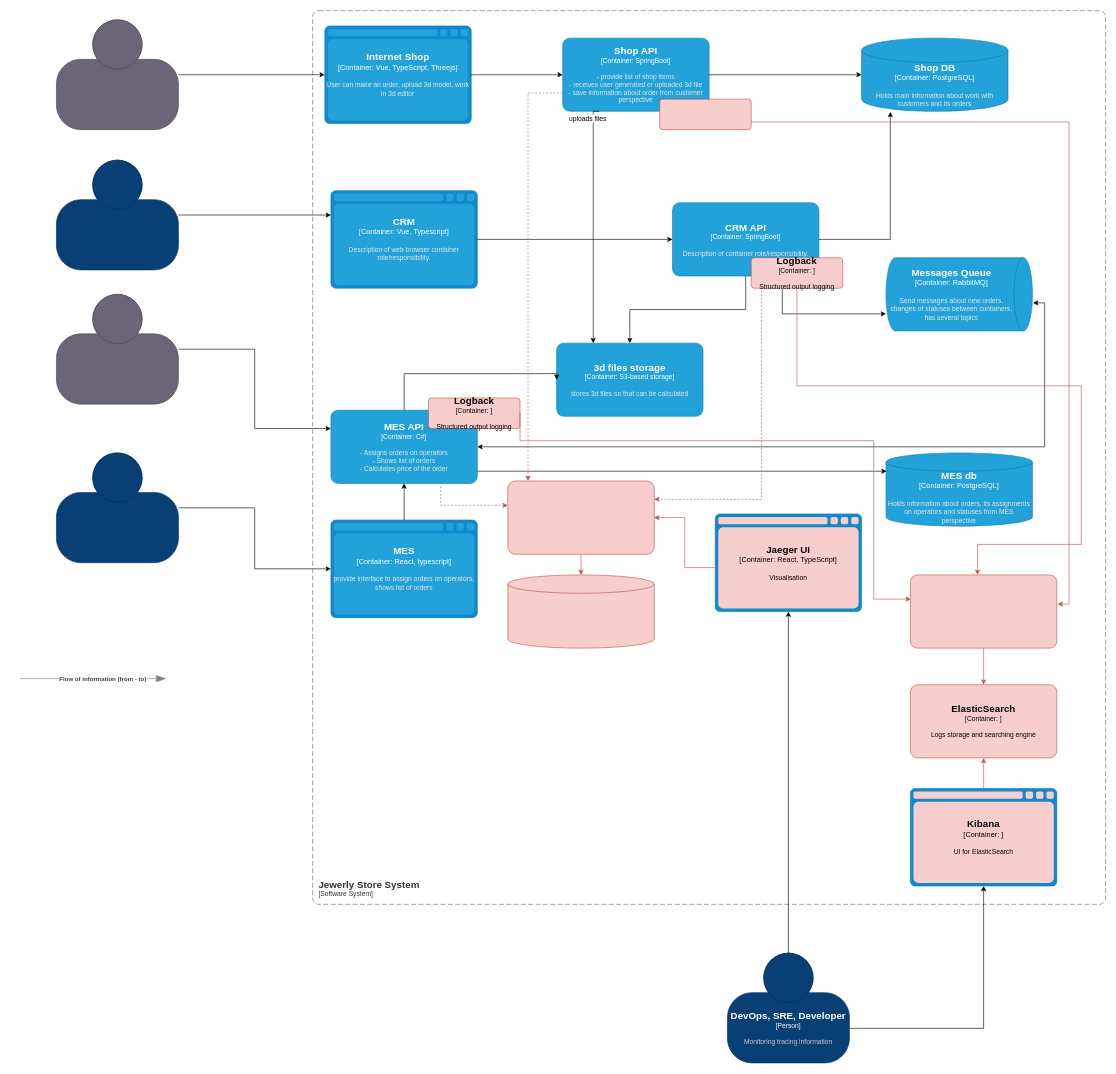
Some shapes in this 1116 by 1074 pixel diagram are drawn without their labels. The centre of each missing label's shape, as x and y in pixels:
"API user [Person] Description of external person." belongs at (x=117, y=349).
"Customer [Person] Description of external person." belongs at (x=117, y=74).
"Jaeger [Container: GoLang] Traces" belongs at (x=580, y=517).
"Jaeger DB [Container: Cassandra] Storage" belongs at (x=580, y=611).
"Logback [Container: ] Collecing logs" belongs at (x=705, y=114).
"Logstash [Container: ] Aggregating logs and send to ElasticSearch" belongs at (x=983, y=611).
"Operator [Person] Takes order in work, manufactures jewerly" belongs at (x=117, y=507).
"Seller [Person] Operates with order, confirms manufacturing for the user" belongs at (x=117, y=215).
